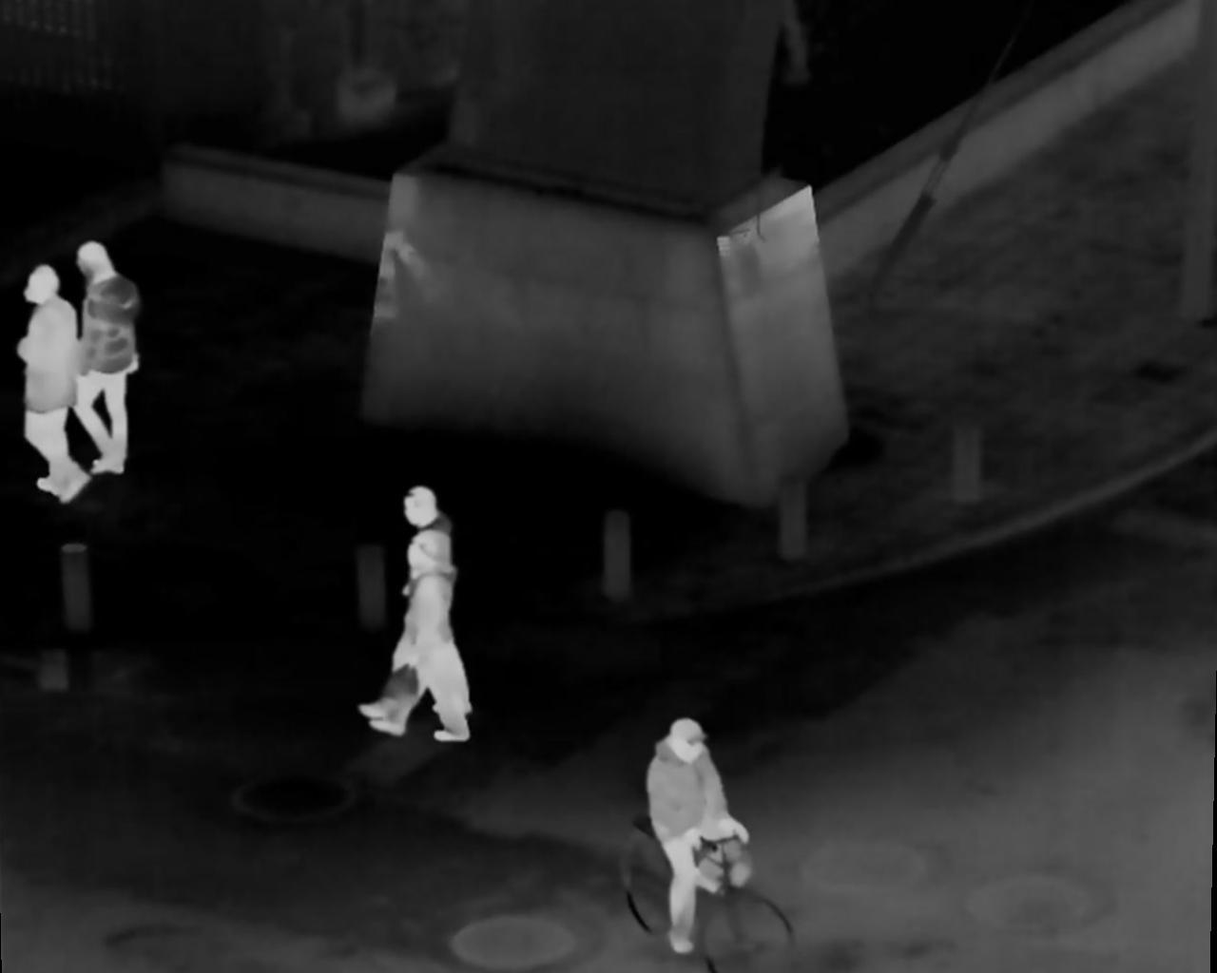person: (641, 717, 754, 957), (359, 486, 476, 716), (369, 525, 469, 748), (18, 269, 97, 503), (74, 240, 136, 475)
